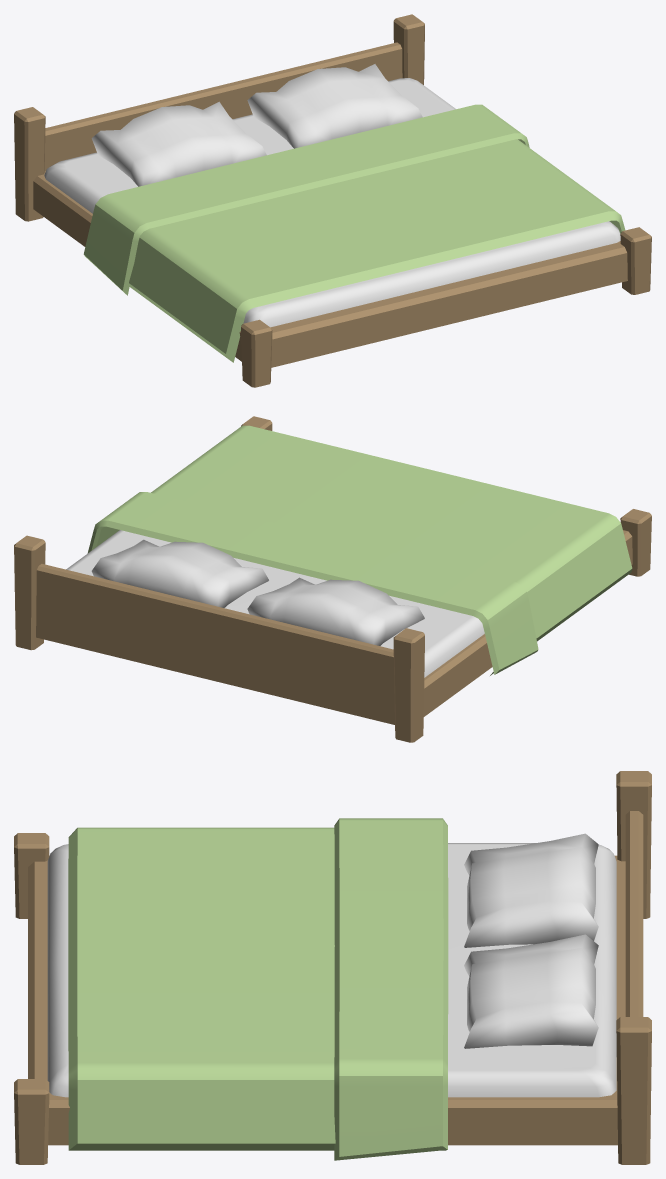
The model's file is bed_double_01.fbx.
The picture shows the model from 3 angles, top to bottom: view 1: azimuth 30°, elevation 25°; view 2: azimuth 150°, elevation 25°; view 3: azimuth 270°, elevation 25°; orthographic projection. The views are drawn at different scales.
Visible parts, largest first — view 1: pCube178; view 2: pCube178; view 3: pCube178.
Part boxes in pixels (box(x1,y1,x2,y2)): pCube178: box(14, 14, 651, 387); pCube178: box(14, 416, 651, 742); pCube178: box(14, 771, 651, 1164).
Size of the model in its own units: 17.06 by 4.03 by 17.07.
